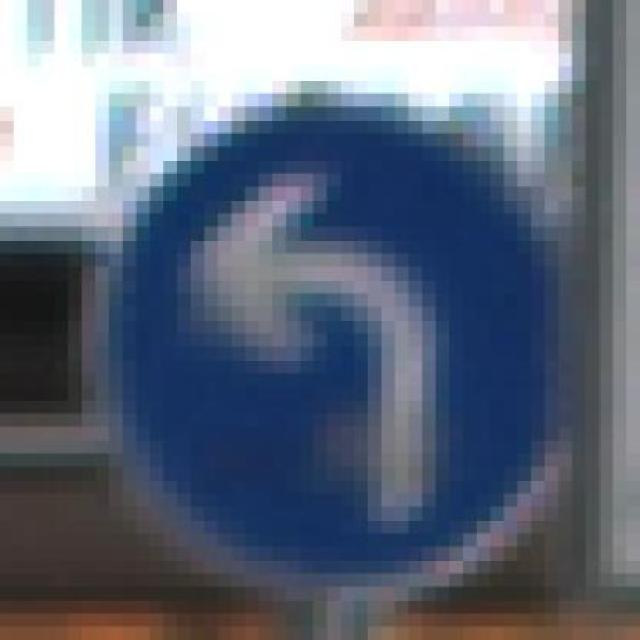Turn left ahead: (95, 66, 572, 600)
